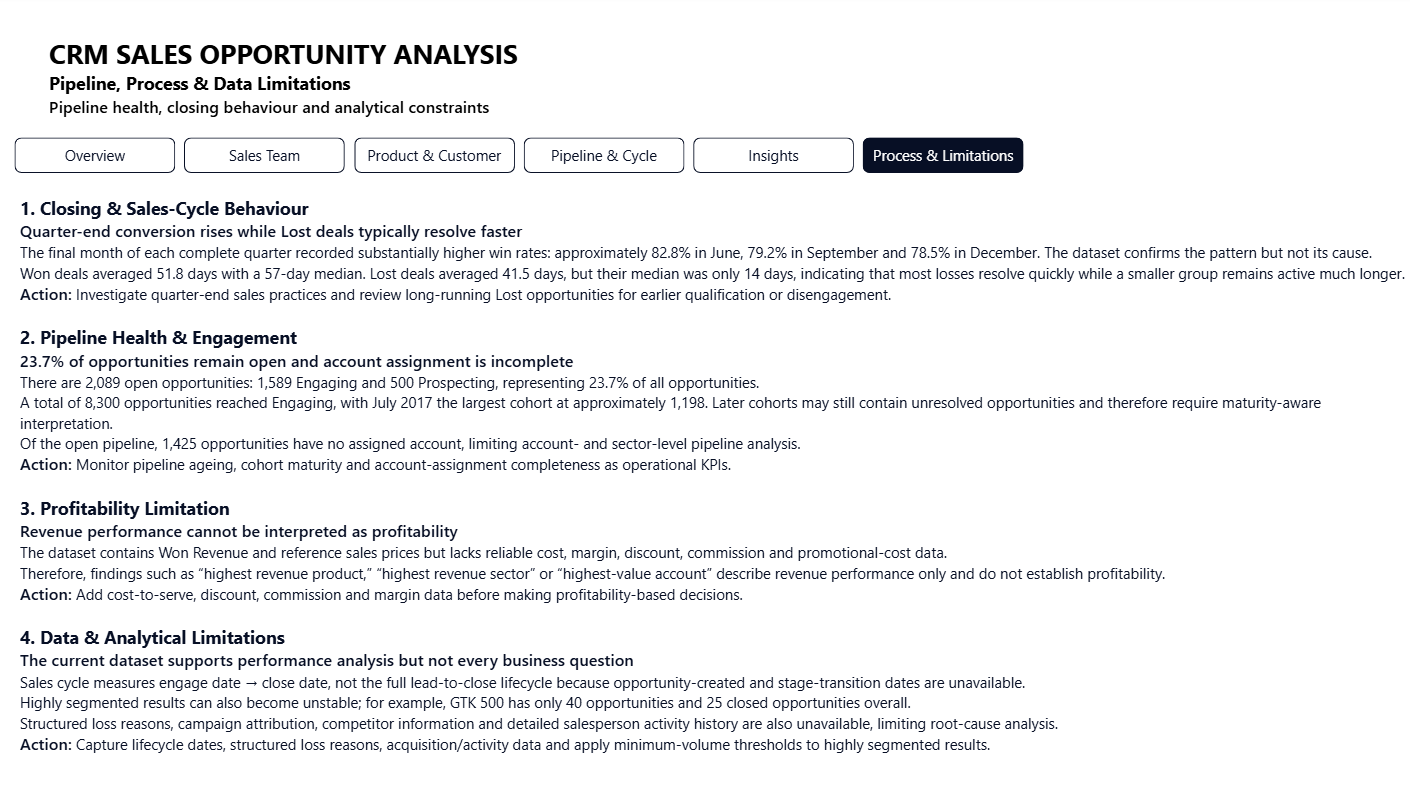

This screenshot's page, from the dashboard's own definition file:
{"tool":"powerbi","page":{"name":"Process & Limitations","canvas":[1280,720],"ordinal":9},"visuals":[{"type":"textbox","box":[0,32,1280,85],"z":0},{"type":"pageNavigator","box":[16,128,912,32],"z":1000},{"type":"textbox","box":[16,176,1264,528],"z":2000}]}

Visuals, with their boxes in screenshot pixels (x1, y1, x2, y2), scaled from the page's 1280x720 canvas onto the 1410x787 screenshot:
textbox: x1=0 y1=35 x2=1409 y2=128
pageNavigator: x1=18 y1=140 x2=1022 y2=175
textbox: x1=18 y1=192 x2=1409 y2=770
